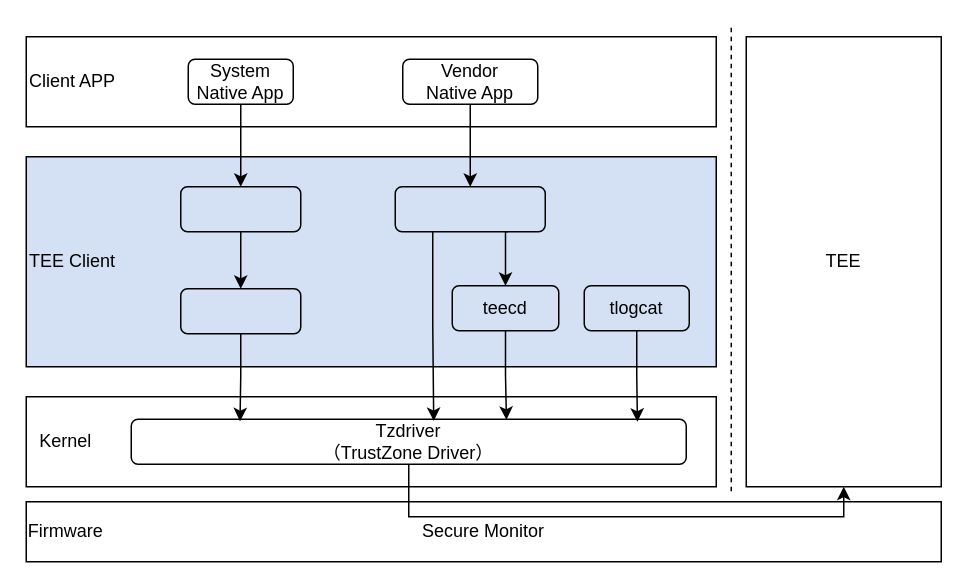
This 968x588 diagram has some shape labels left out. Here are the shapes that lost their labels. From the top down, the centre of each, then its label:
the point at 240,208: libteec.so
the point at 469,208: libteec_vendor.so
the point at 240,310: cadaemon
